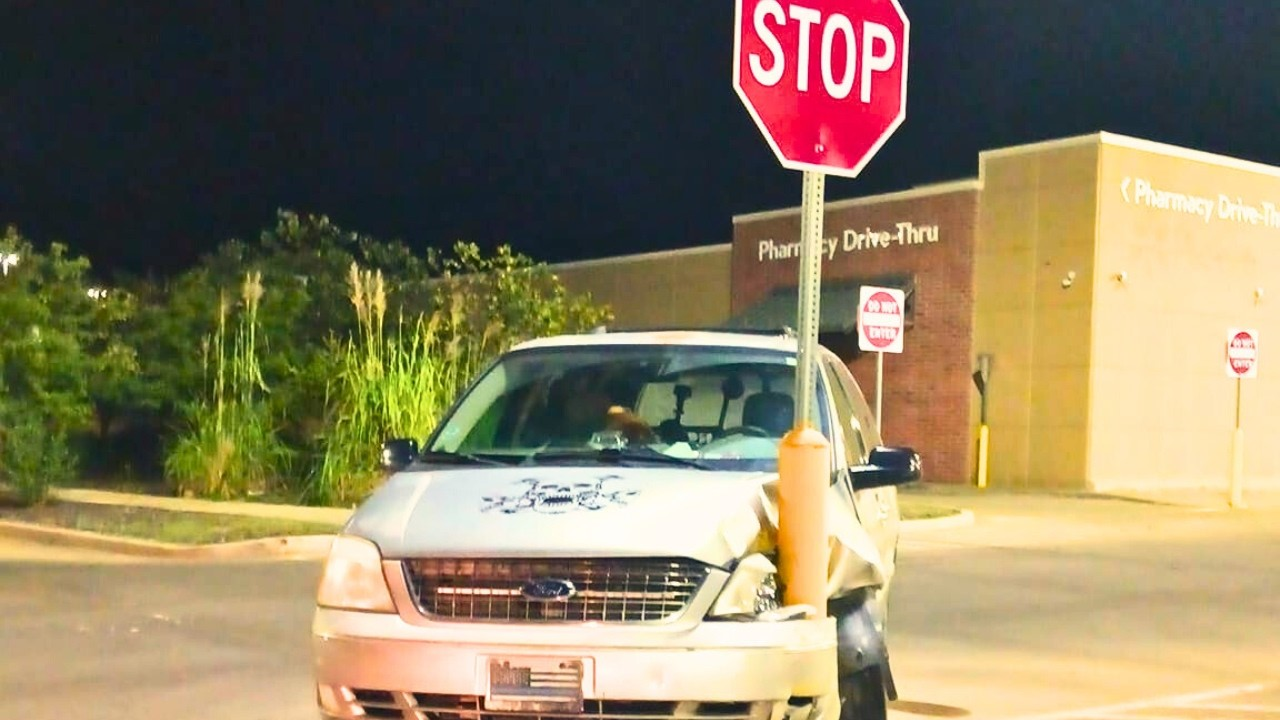StopSign: (731, 0, 909, 178)
